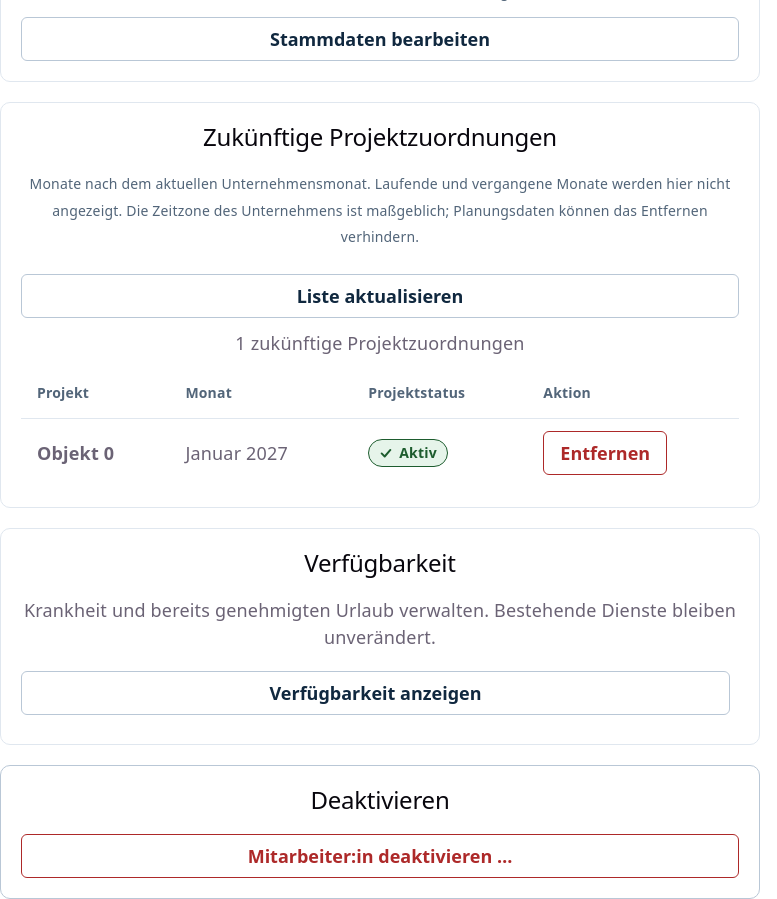
Scenario: S-9 operational employee detail › closes and refreshes after a refusal/unknown outcome without retrying DELETE ({"name":"ApiError","kind":"http","status":409,"code":"PROJECT_ASSIGNMENT_CONFLICT"
(page scrolled)
Click the button with aria-label "Entfernen:". click: {"x": 605, "y": 453}
box: [543,431,667,475]
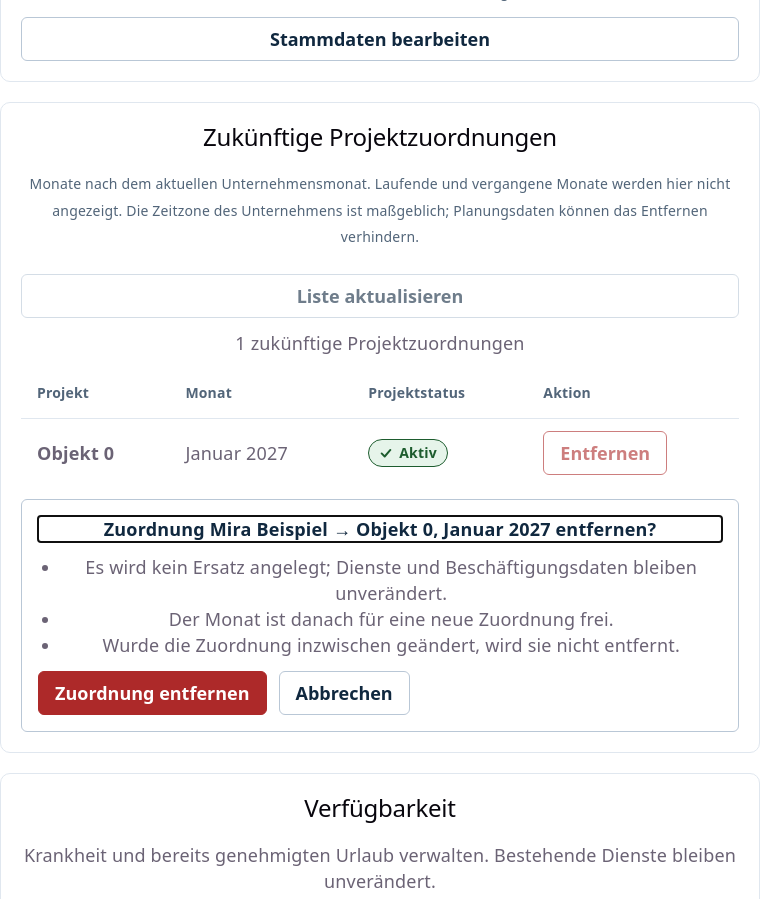
Click the button "Zuordnung entfernen". click: {"x": 152, "y": 693}
box: [38,671,266,715]
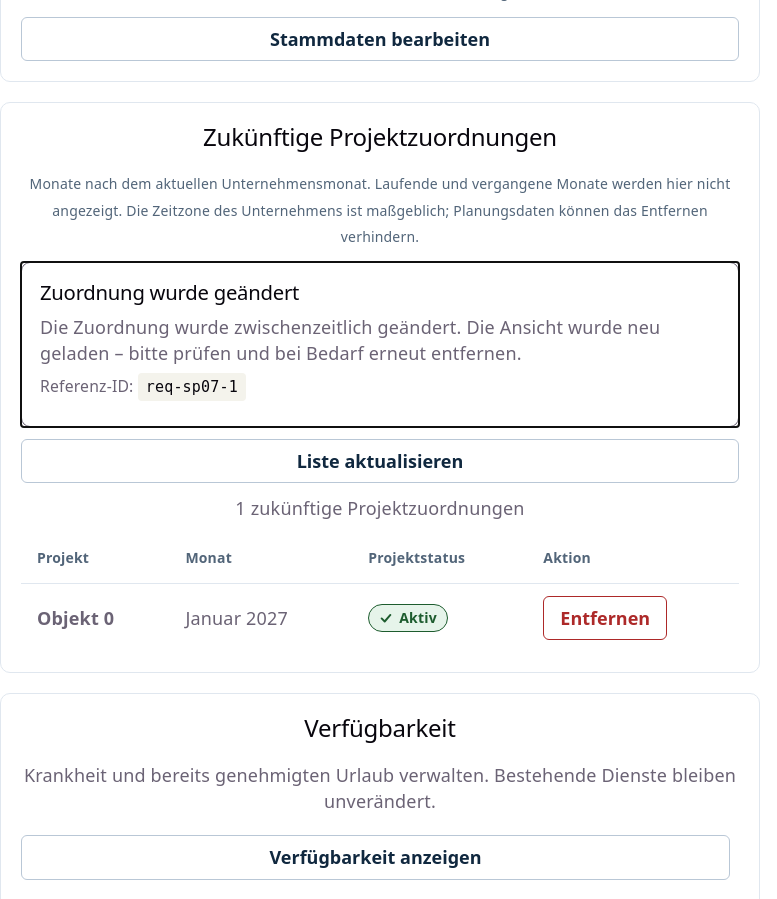
Expected: the button with aria-label "Entfernen:" is shown, [543,596,667,640]
Expected: the heading "Zuordnung wurde geändert" is shown, [40,278,299,306]
